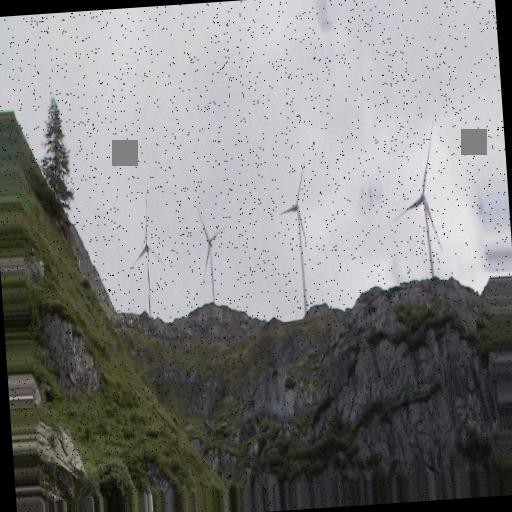wind turbine: (392, 121, 447, 279), (128, 196, 168, 319), (279, 172, 312, 321), (193, 201, 229, 308)
